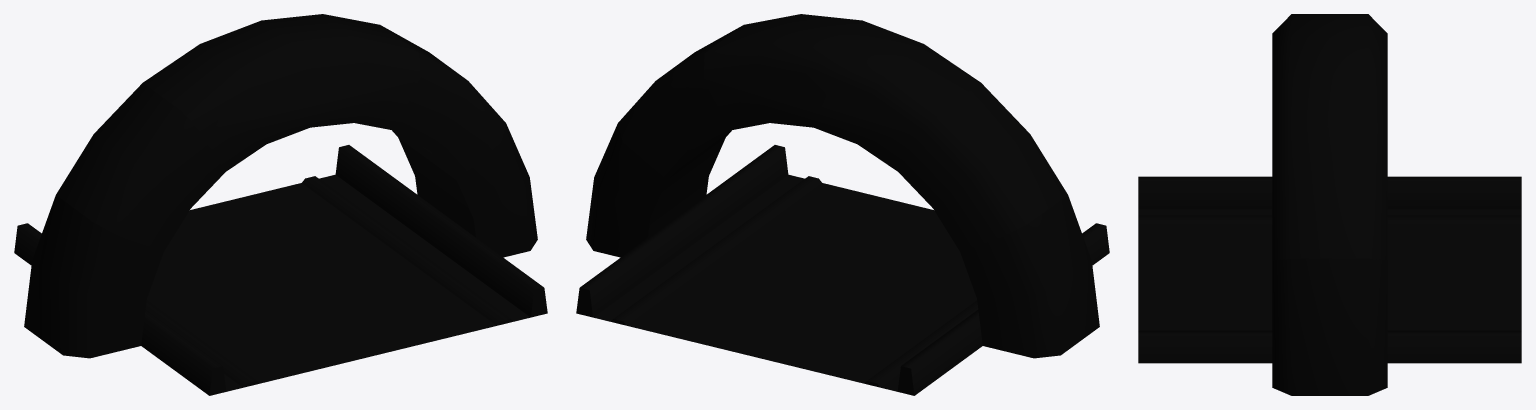
Rendered from track-finish.glb.
The picture shows the model from 3 angles, left to right: view 1: azimuth 30°, elevation 25°; view 2: azimuth 150°, elevation 25°; view 3: azimuth 270°, elevation 25°; orthographic projection.
Visible parts, largest first — view 1: track-finish; view 2: track-finish; view 3: track-finish.
Boxes of the visible parts, x1,y1,x2,y2 form: track-finish: (14, 14, 547, 395); track-finish: (576, 14, 1109, 395); track-finish: (1138, 14, 1521, 395).
Size of the model in its own units: 14.03 by 7.02 by 10.
1 material, 1 textured.
